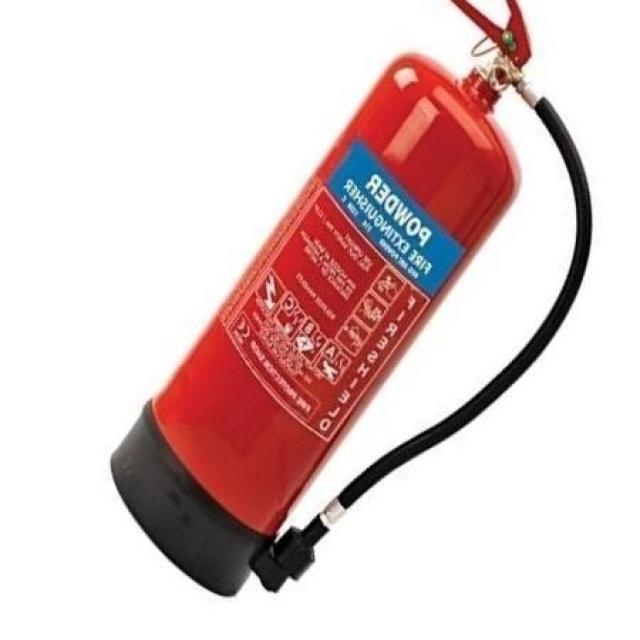fire_extinguisher: (102, 0, 596, 603)
